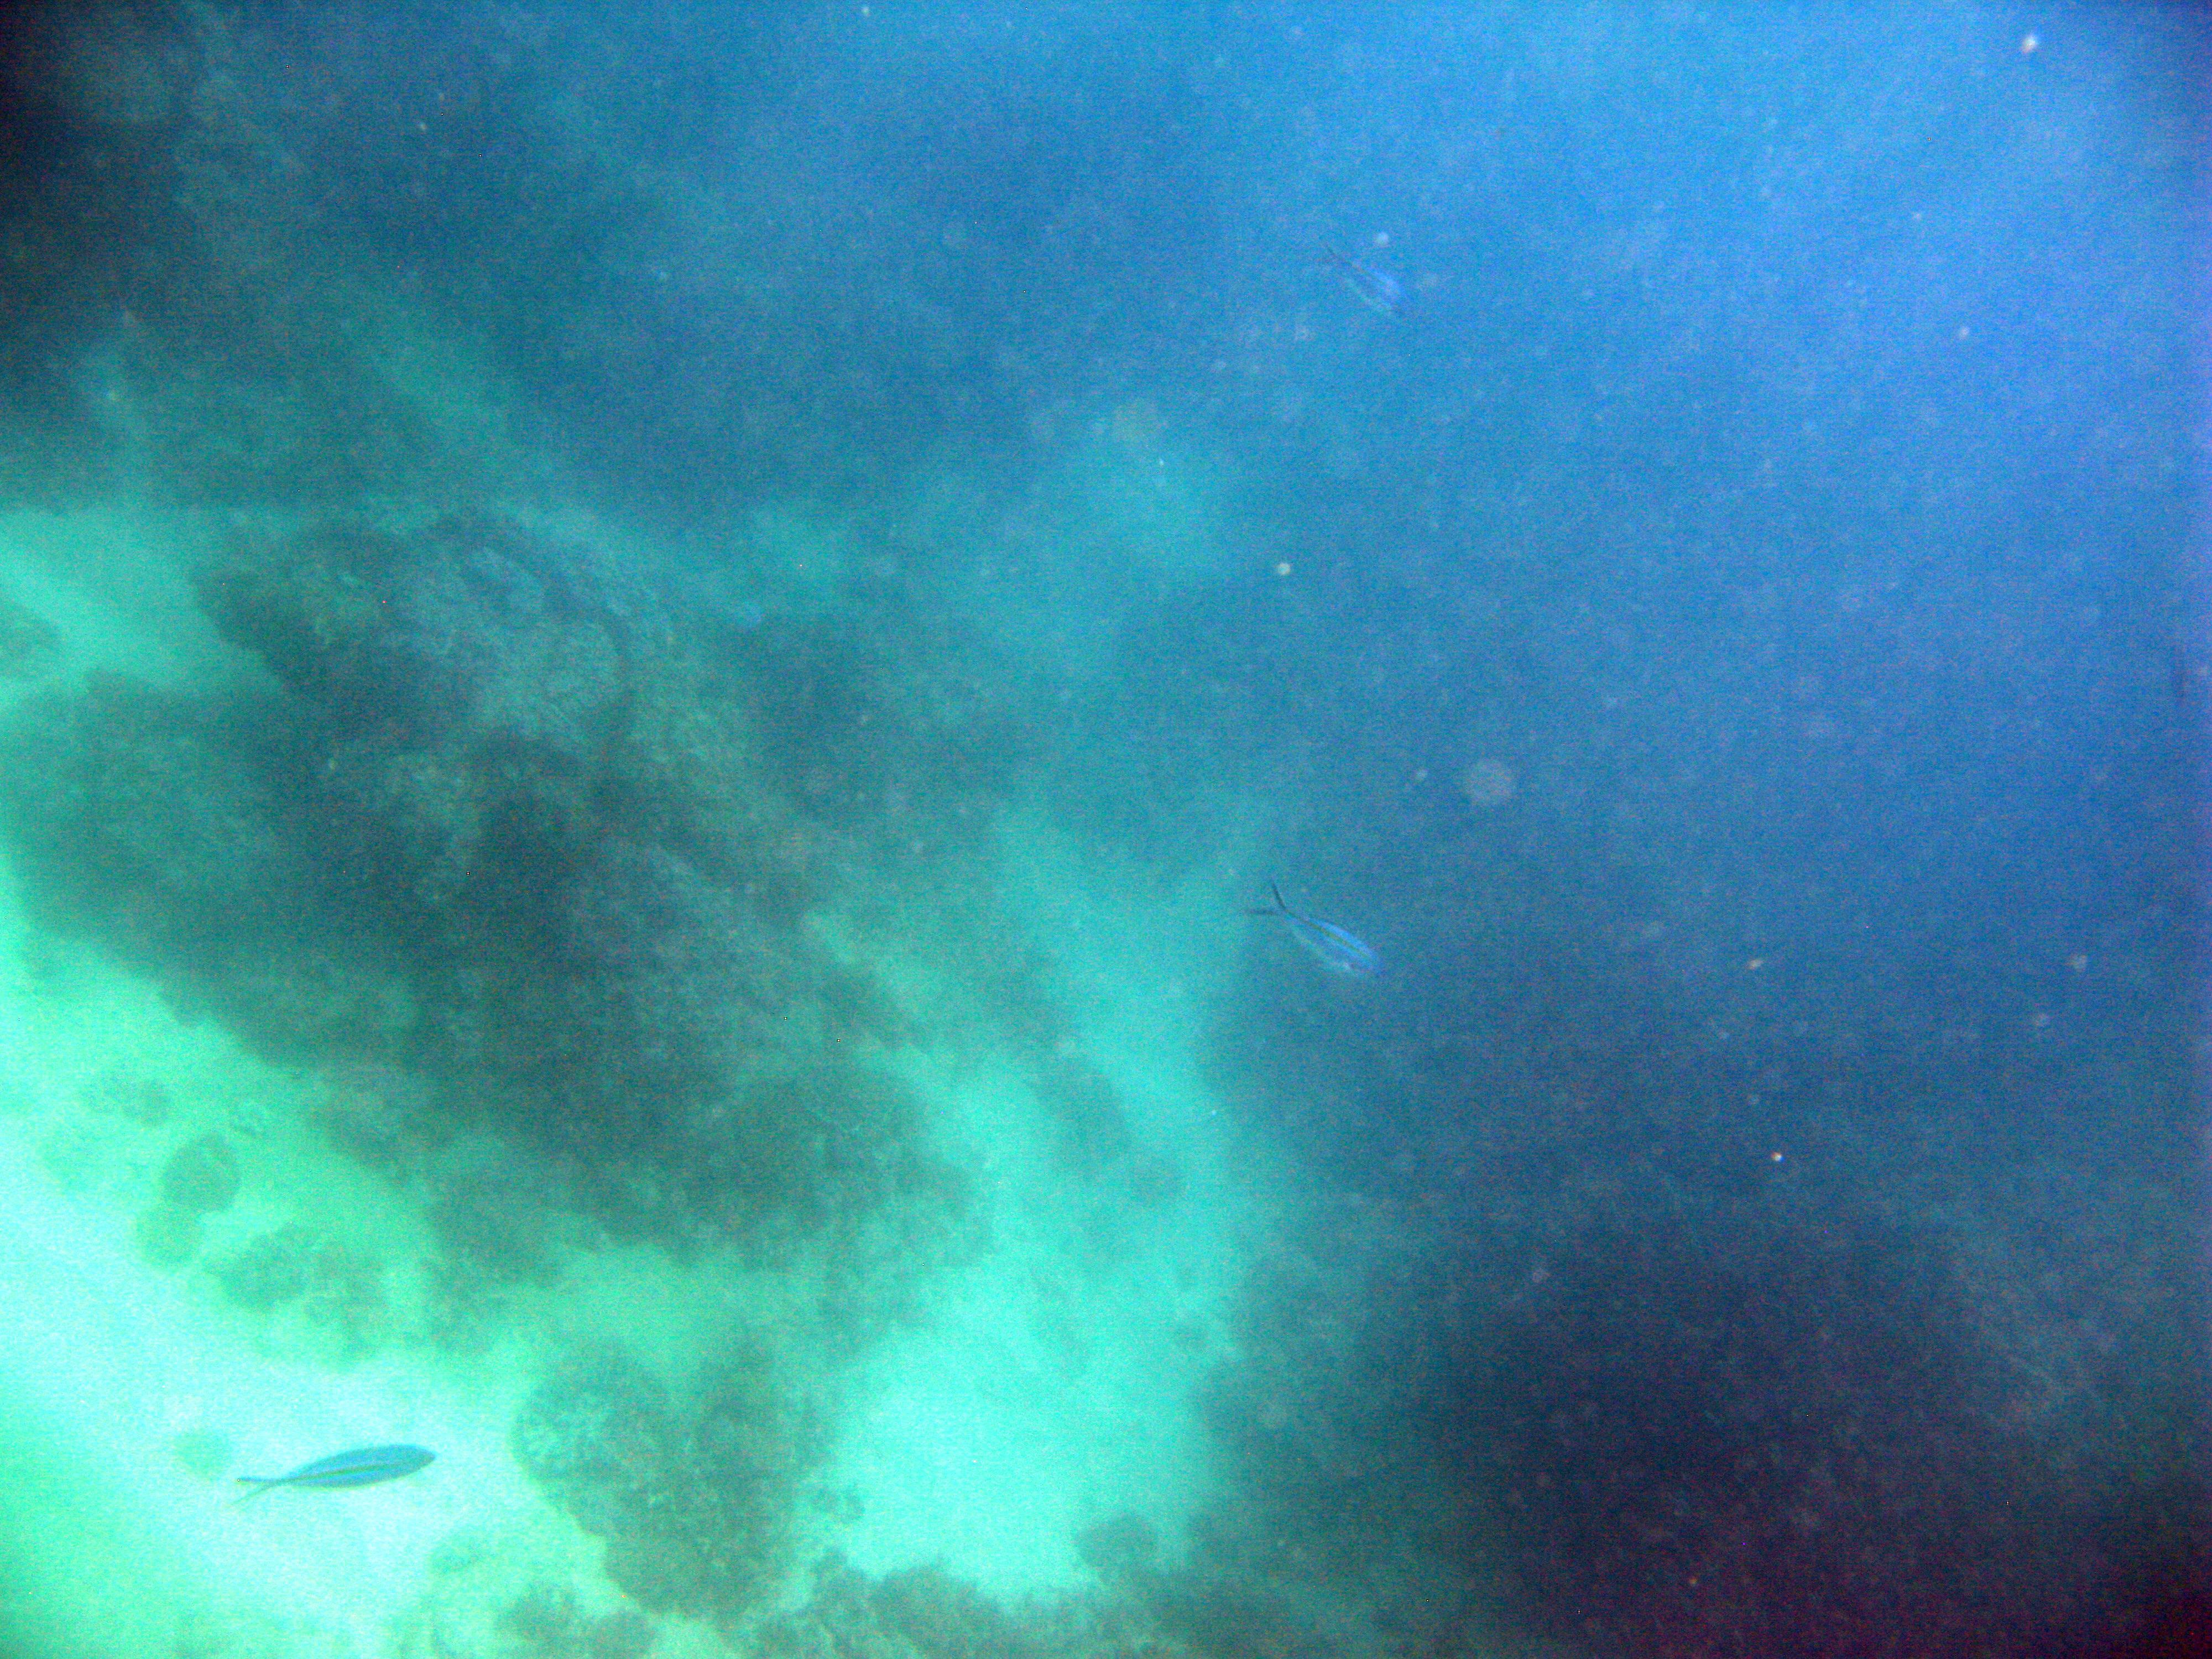Caesio caerulaura: (1242, 866, 1407, 1019), (253, 1427, 463, 1514)
